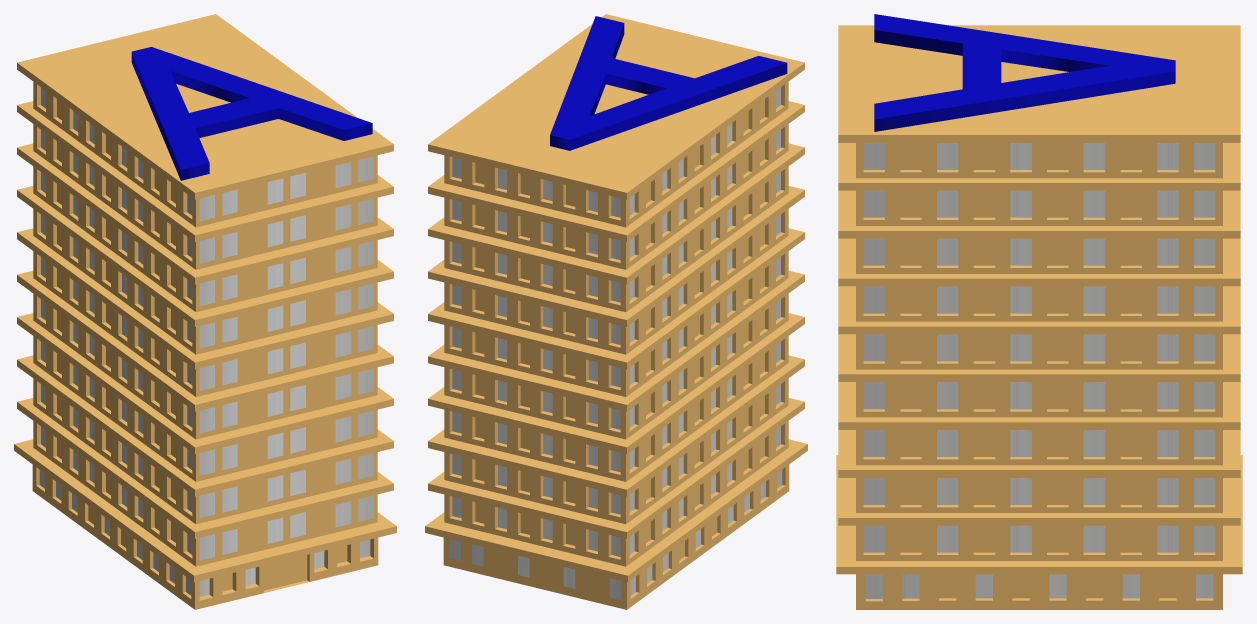
The model's file is BuildingA.obj.
3 views of the same model, side by side, from view 1: azimuth 30°, elevation 25°; view 2: azimuth 150°, elevation 25°; view 3: azimuth 270°, elevation 25° (orthographic). The views are drawn at different scales.
Visible parts, largest first — view 1: Plane.045, Plane.044, Text.018; view 2: Plane.045, Plane.044, Text.018; view 3: Plane.045, Plane.044, Text.018.
Part boxes in pixels (x1,y1,x2,y2): Plane.045: (17, 14, 393, 566); Plane.044: (14, 439, 396, 609); Text.018: (131, 47, 372, 180); Plane.045: (428, 14, 804, 566); Plane.044: (425, 439, 807, 609); Text.018: (550, 16, 787, 150); Plane.045: (838, 25, 1240, 560); Plane.044: (836, 455, 1242, 609); Text.018: (874, 14, 1175, 131).
Size of the model in its own units: 8.78 by 18.01 by 13.49.
